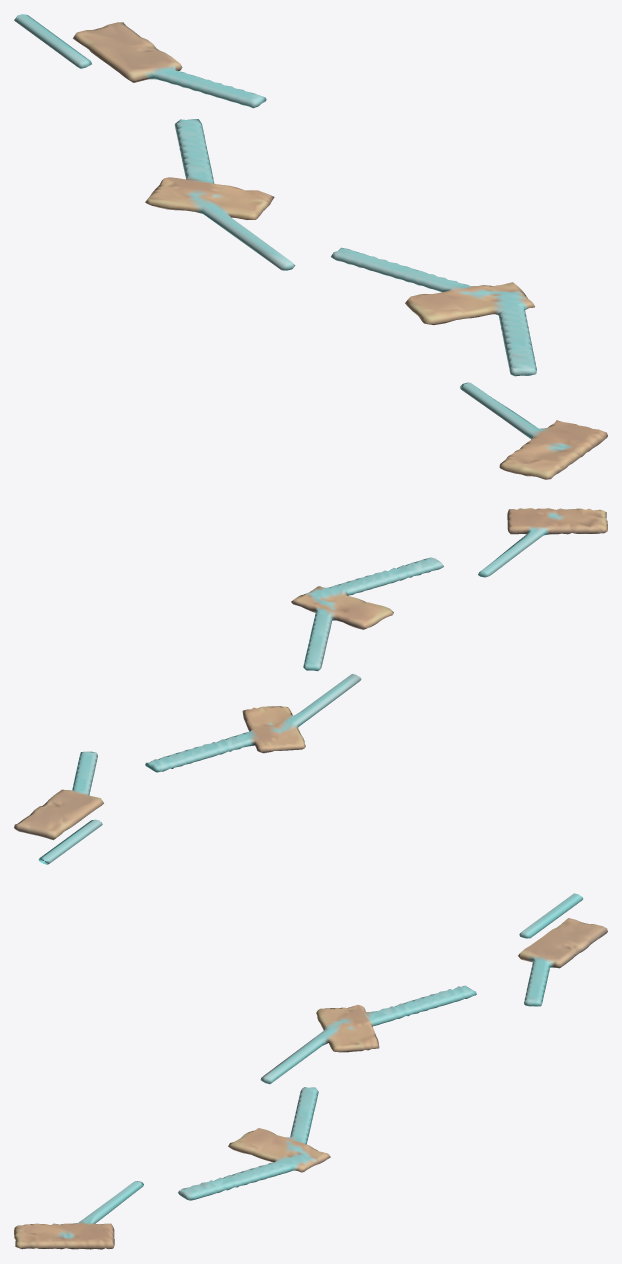
The model's file is env_fr_crack.glb.
3 renders of one model, top to bottom at view 1: azimuth 30°, elevation 25°; view 2: azimuth 150°, elevation 25°; view 3: azimuth 330°, elevation 25°, orthographic. The views are drawn at different scales.
Visible parts, largest first — view 1: geometry_0; view 2: geometry_0; view 3: geometry_0.
Part boxes in pixels (box(x1,y1,x2,y2)): geometry_0: box(14, 14, 607, 479); geometry_0: box(14, 508, 607, 864); geometry_0: box(14, 893, 607, 1249).
Bounding box in the file's own units: 2.73 × 0.1266 × 14.06.
